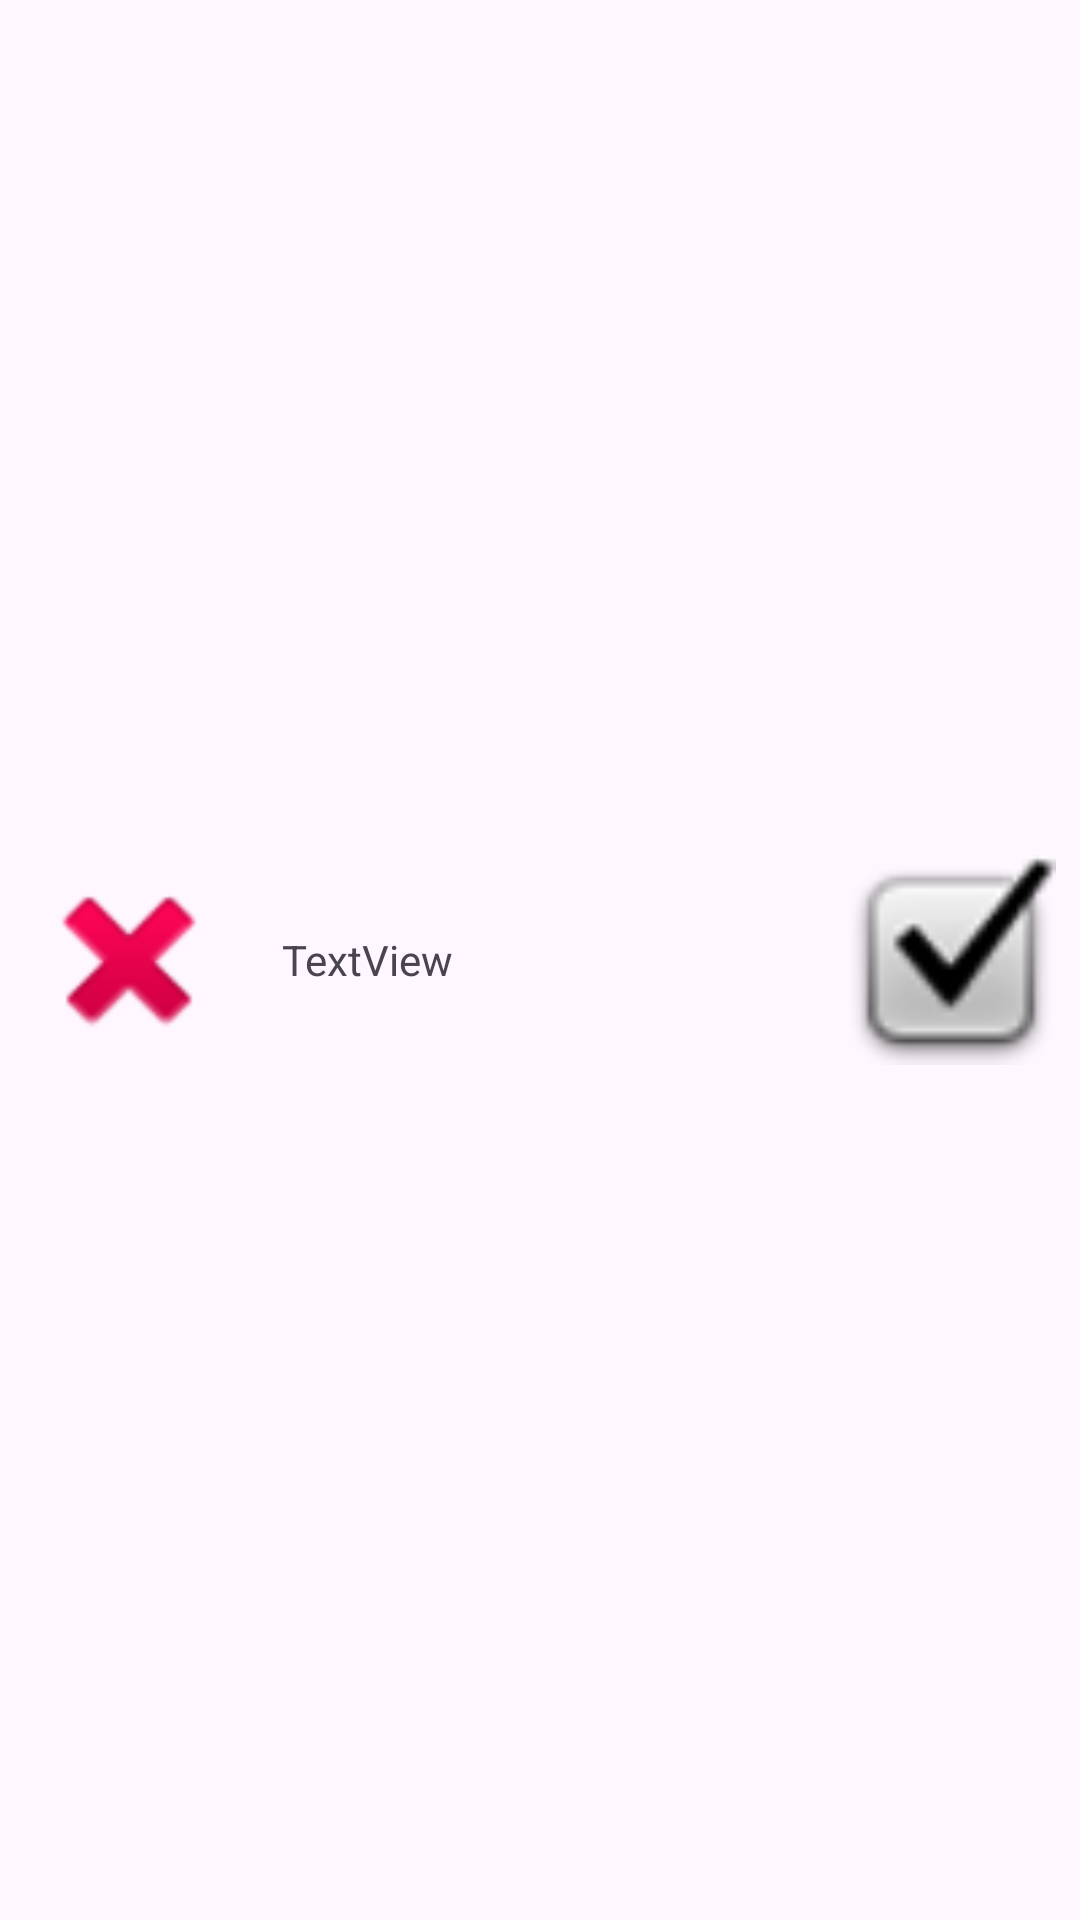

Icons on this 1080px x 1920px Android screen, each with its box as (x1, y1, x2, y2):
Cancel: (62, 896, 196, 1026)
